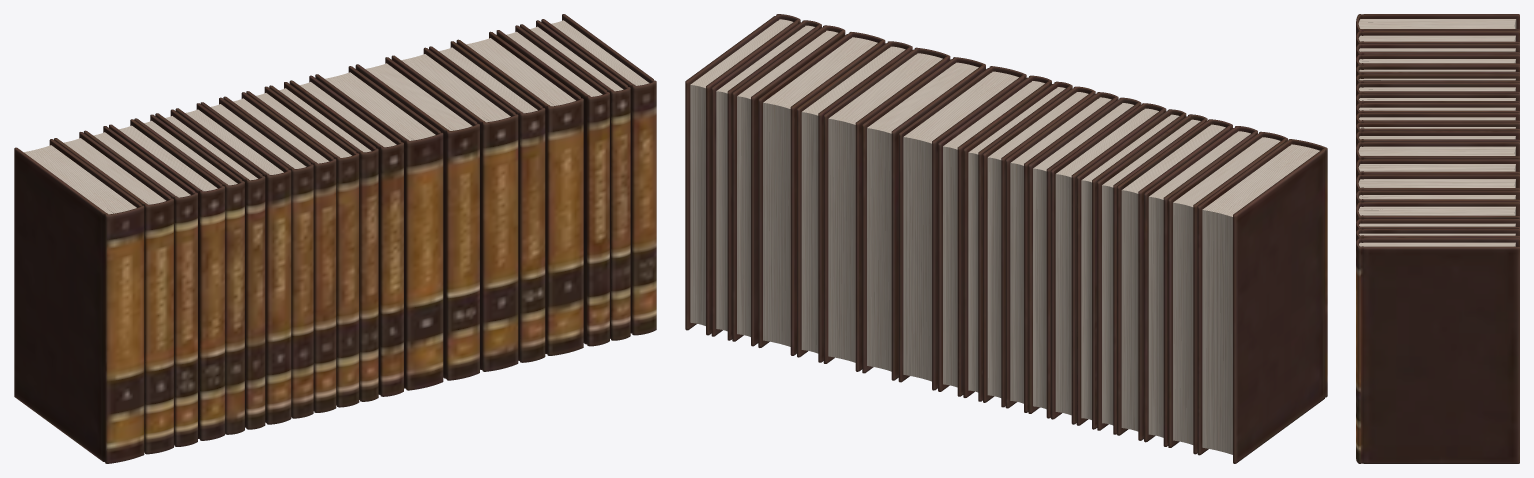
The model's file is book_encyclopedia_set_01.glb.
3 renders of one model, left to right at view 1: azimuth 30°, elevation 25°; view 2: azimuth 150°, elevation 25°; view 3: azimuth 270°, elevation 25°, orthographic. The views are drawn at different scales.
Visible parts, largest first — view 1: book_encyclopedia_set_01_book01, book_encyclopedia_set_01_book13, book_encyclopedia_set_01_book15, book_encyclopedia_set_01_book17, book_encyclopedia_set_01_book14, book_encyclopedia_set_01_book02, book_encyclopedia_set_01_book16, book_encyclopedia_set_01_book04, book_encyclopedia_set_01_book18, book_encyclopedia_set_01_book20, book_encyclopedia_set_01_book07, book_encyclopedia_set_01_book12 (+8 smaller); view 2: book_encyclopedia_set_01_book01, book_encyclopedia_set_01_book13, book_encyclopedia_set_01_book15, book_encyclopedia_set_01_book17, book_encyclopedia_set_01_book14, book_encyclopedia_set_01_book02, book_encyclopedia_set_01_book04, book_encyclopedia_set_01_book16, book_encyclopedia_set_01_book20, book_encyclopedia_set_01_book18, book_encyclopedia_set_01_book07, book_encyclopedia_set_01_book12 (+8 smaller); view 3: book_encyclopedia_set_01_book20, book_encyclopedia_set_01_book13, book_encyclopedia_set_01_book01, book_encyclopedia_set_01_book17, book_encyclopedia_set_01_book15, book_encyclopedia_set_01_book14, book_encyclopedia_set_01_book02, book_encyclopedia_set_01_book16, book_encyclopedia_set_01_book03, book_encyclopedia_set_01_book12, book_encyclopedia_set_01_book07, book_encyclopedia_set_01_book04 (+8 smaller).
Boxes of the visible parts, bbox=[...] form: book_encyclopedia_set_01_book01: bbox=[14, 139, 144, 463]; book_encyclopedia_set_01_book13: bbox=[315, 66, 443, 390]; book_encyclopedia_set_01_book15: bbox=[391, 47, 518, 371]; book_encyclopedia_set_01_book17: bbox=[456, 31, 583, 355]; book_encyclopedia_set_01_book14: bbox=[355, 57, 479, 380]; book_encyclopedia_set_01_book02: bbox=[54, 132, 173, 454]; book_encyclopedia_set_01_book16: bbox=[429, 41, 545, 362]; book_encyclopedia_set_01_book04: bbox=[109, 119, 224, 440]; book_encyclopedia_set_01_book18: bbox=[496, 25, 609, 346]; book_encyclopedia_set_01_book20: bbox=[541, 14, 656, 335]; book_encyclopedia_set_01_book07: bbox=[175, 103, 291, 424]; book_encyclopedia_set_01_book12: bbox=[289, 75, 403, 396]; book_encyclopedia_set_01_book01: bbox=[1197, 139, 1327, 463]; book_encyclopedia_set_01_book13: bbox=[898, 66, 1026, 390]; book_encyclopedia_set_01_book15: bbox=[823, 47, 950, 371]; book_encyclopedia_set_01_book17: bbox=[758, 32, 885, 355]; book_encyclopedia_set_01_book14: bbox=[862, 57, 985, 380]; book_encyclopedia_set_01_book02: bbox=[1168, 131, 1287, 454]; book_encyclopedia_set_01_book04: bbox=[1117, 119, 1232, 440]; book_encyclopedia_set_01_book16: bbox=[797, 41, 912, 362]; book_encyclopedia_set_01_book20: bbox=[685, 14, 800, 335]; book_encyclopedia_set_01_book18: bbox=[732, 25, 845, 346]; book_encyclopedia_set_01_book07: bbox=[1051, 103, 1166, 424]; book_encyclopedia_set_01_book12: bbox=[938, 75, 1051, 396]; book_encyclopedia_set_01_book20: bbox=[1356, 238, 1519, 463]; book_encyclopedia_set_01_book13: bbox=[1356, 142, 1519, 164]; book_encyclopedia_set_01_book01: bbox=[1356, 14, 1519, 35]; book_encyclopedia_set_01_book17: bbox=[1356, 202, 1519, 222]; book_encyclopedia_set_01_book15: bbox=[1356, 174, 1519, 194]; book_encyclopedia_set_01_book14: bbox=[1356, 159, 1519, 180]; book_encyclopedia_set_01_book02: bbox=[1356, 30, 1519, 47]; book_encyclopedia_set_01_book16: bbox=[1356, 190, 1519, 208]; book_encyclopedia_set_01_book03: bbox=[1356, 43, 1519, 58]; book_encyclopedia_set_01_book12: bbox=[1356, 131, 1519, 148]; book_encyclopedia_set_01_book07: bbox=[1356, 82, 1519, 96]; book_encyclopedia_set_01_book04: bbox=[1356, 54, 1519, 68].
Size of the model in its own units: 0.5513 by 0.2374 by 0.1631.
2 materials, 2 textured.
